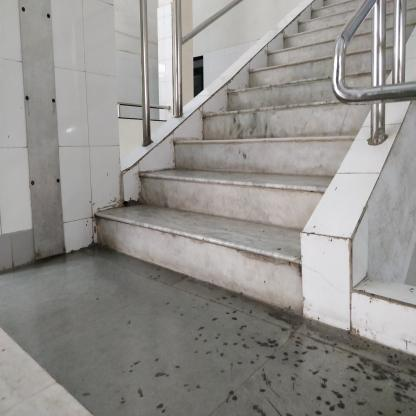stairs: (197, 126, 298, 318)
